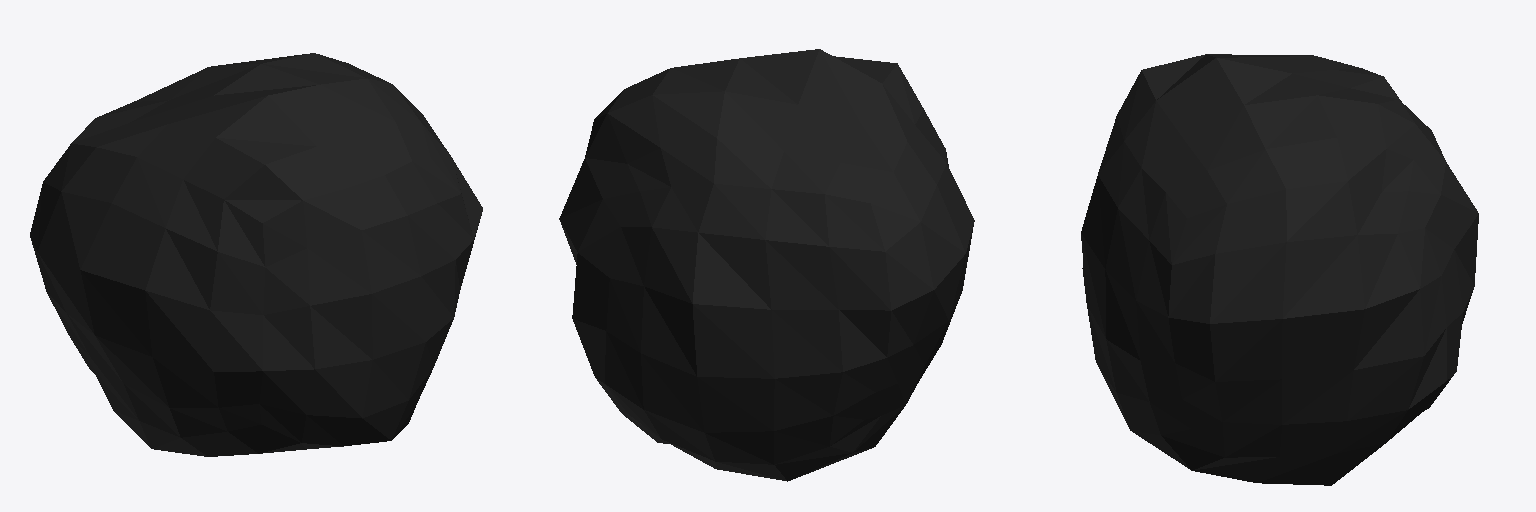
The model's file is boulder3.obj.
3 renders of one model, left to right at view 1: azimuth 30°, elevation 25°; view 2: azimuth 150°, elevation 25°; view 3: azimuth 270°, elevation 25°, orthographic.
Parts seen in each view (by area): view 1: rockLP001.004; view 2: rockLP001.004; view 3: rockLP001.004.
Boxes of the visible parts, x1=… form: rockLP001.004: x1=30, y1=53, x2=482, y2=456; rockLP001.004: x1=559, y1=49, x2=974, y2=481; rockLP001.004: x1=1081, y1=54, x2=1478, y2=485.
Bounding box in the file's own units: 14.51 × 13.59 × 13.